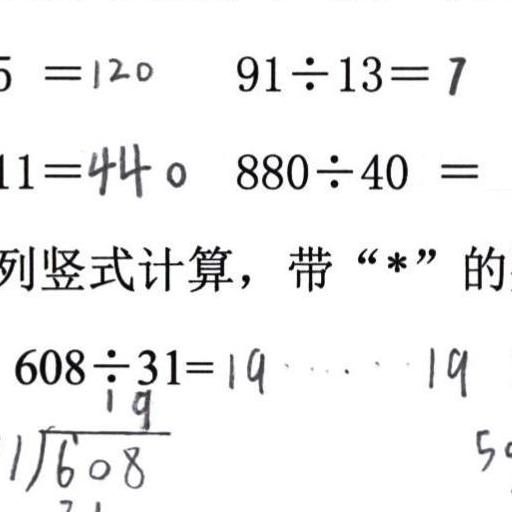ans: (224, 340, 469, 400), (82, 137, 187, 198), (86, 50, 152, 88), (440, 49, 468, 96)
